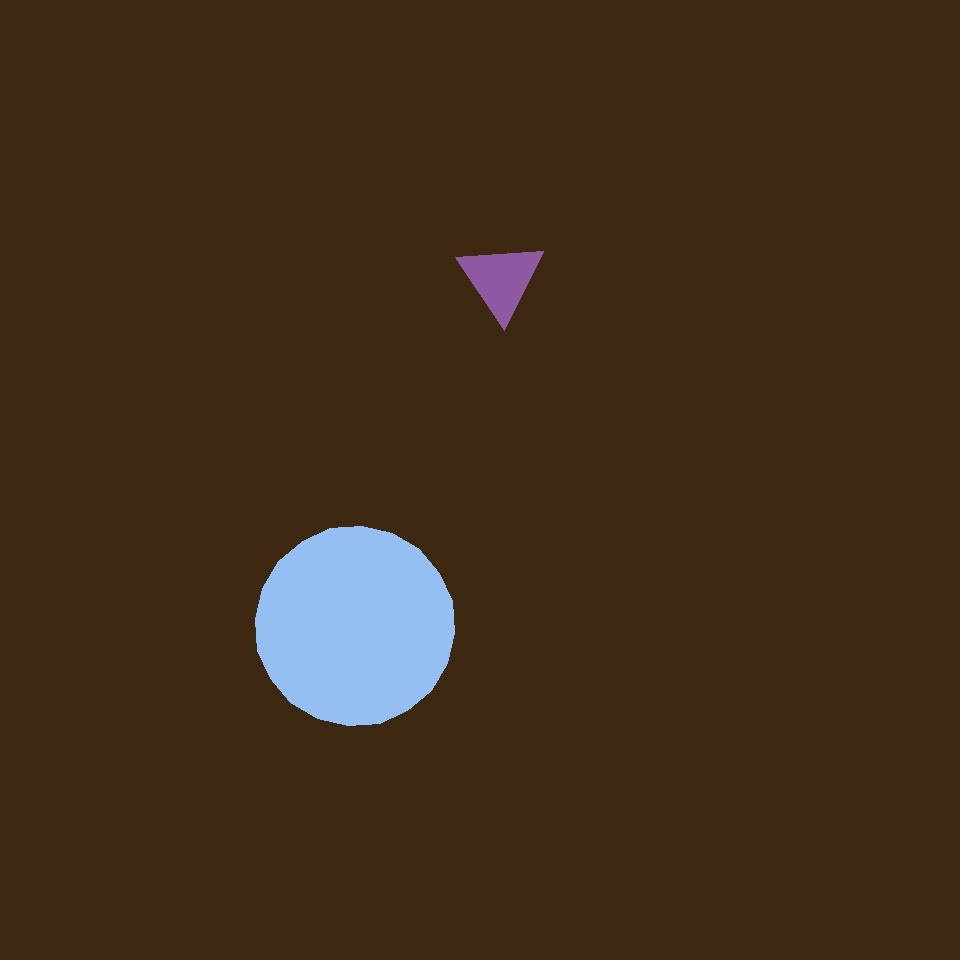circle: (739, 281, 877, 410), (457, 241, 545, 320)
square: (393, 648, 567, 823)
triangle: (496, 354, 852, 709), (256, 526, 454, 726)
